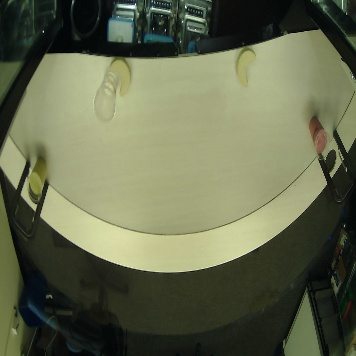empty_cup: (89, 65, 125, 126)
full_cup: (302, 112, 336, 166), (21, 152, 55, 202)
puck: (98, 56, 139, 99), (227, 45, 268, 88)
